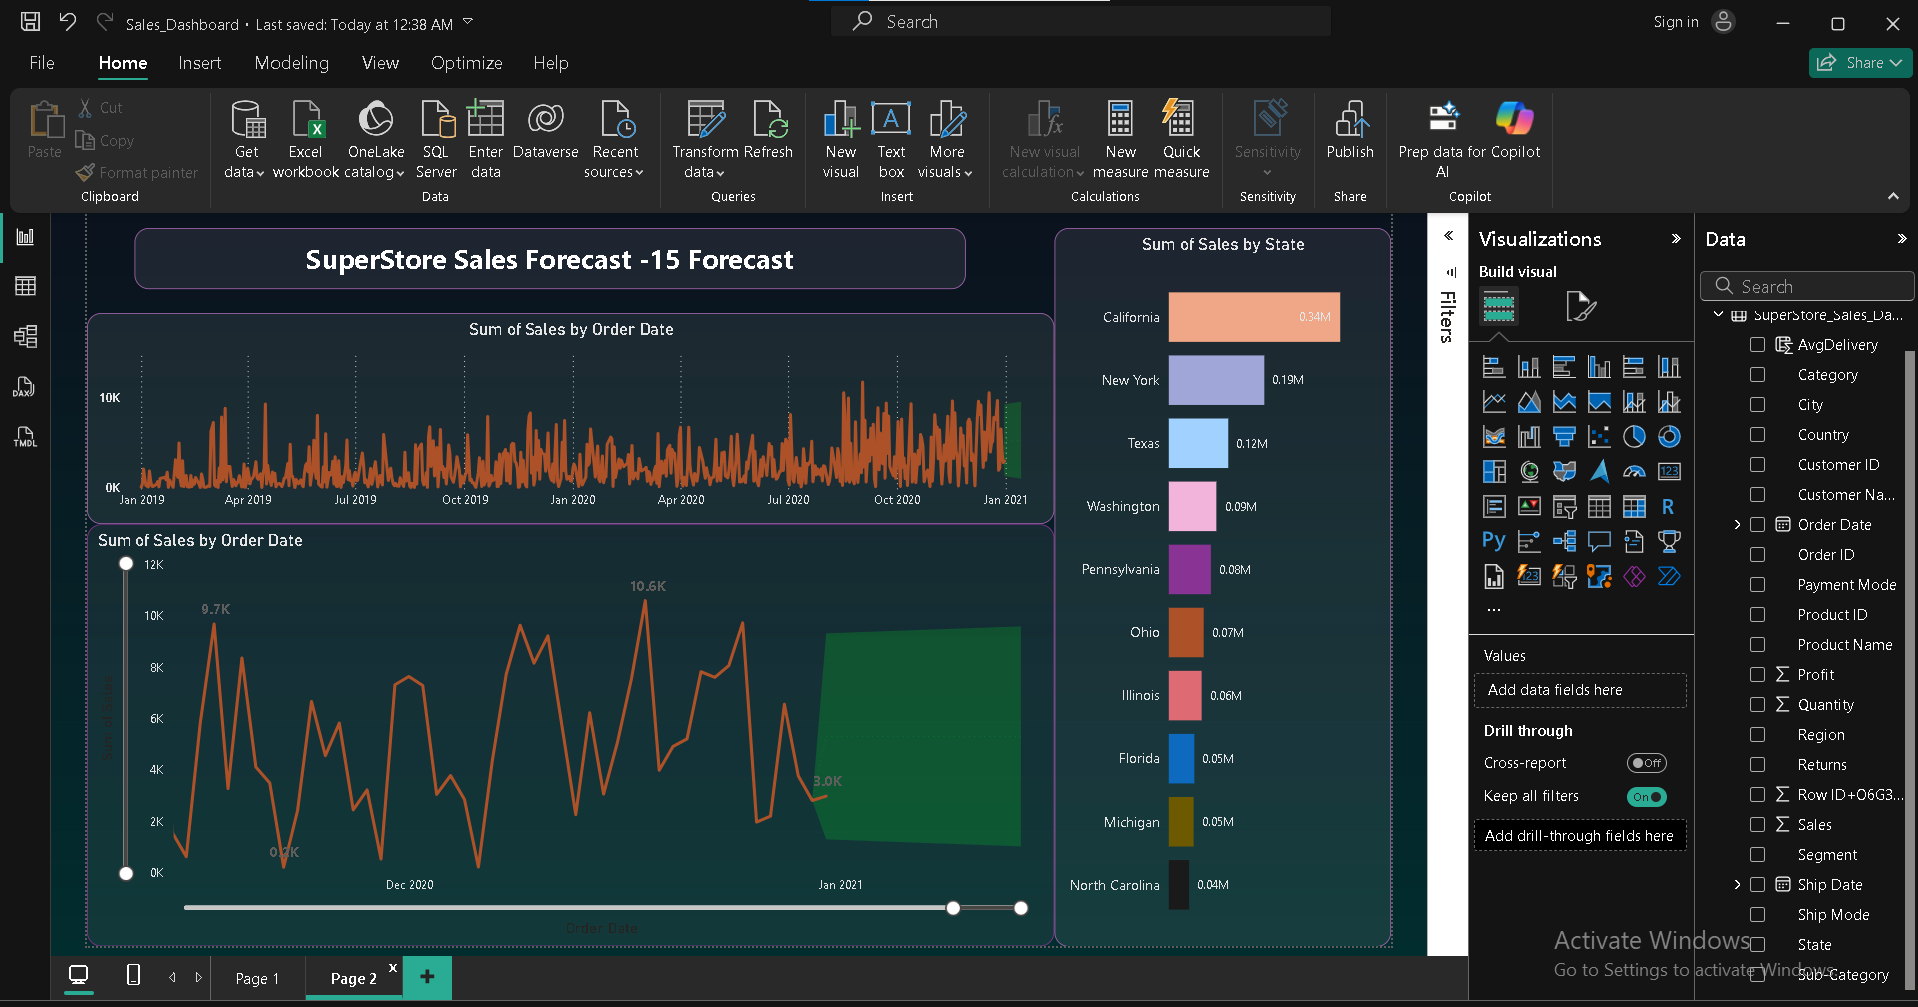

The page's visual inventory and layout, read from the dashboard file:
{"tool":"powerbi","page":{"name":"Page 2","canvas":[1280,720],"ordinal":1},"visuals":[{"type":"lineChart","fields":{"Y":["Sum(SuperStore_Sales_Dataset.Sales)"],"Category":["SuperStore_Sales_Dataset.Order Date"]},"box":[0,98.2,949.7,207.4],"z":0},{"type":"lineChart","fields":{"Y":["Sum(SuperStore_Sales_Dataset.Sales)"],"Category":["SuperStore_Sales_Dataset.Order Date"]},"box":[0,305.5,949.7,414.7],"z":1000},{"type":"clusteredBarChart","fields":{"Category":["SuperStore_Sales_Dataset.State"],"Y":["Sum(SuperStore_Sales_Dataset.Sales)"]},"box":[949.7,14.7,330.1,705.5],"z":2000},{"type":"textbox","box":[46.6,14.7,816,60.1],"z":3000}]}

Visuals, with their boxes on the page's 1280x720 design canvas (x1, y1, x2, y2). These are canvas units, not pixel positions in the 1918x1007 screenshot, which may show the page scaled, cropped or inside an application window:
lineChart - Sum(SuperStore_Sales_Dataset.Sales) x SuperStore_Sales_Dataset.Order Date: (left=0, top=98, right=950, bottom=306)
lineChart - Sum(SuperStore_Sales_Dataset.Sales) x SuperStore_Sales_Dataset.Order Date: (left=0, top=306, right=950, bottom=720)
clusteredBarChart - SuperStore_Sales_Dataset.State x Sum(SuperStore_Sales_Dataset.Sales): (left=950, top=15, right=1280, bottom=720)
textbox: (left=47, top=15, right=863, bottom=75)
